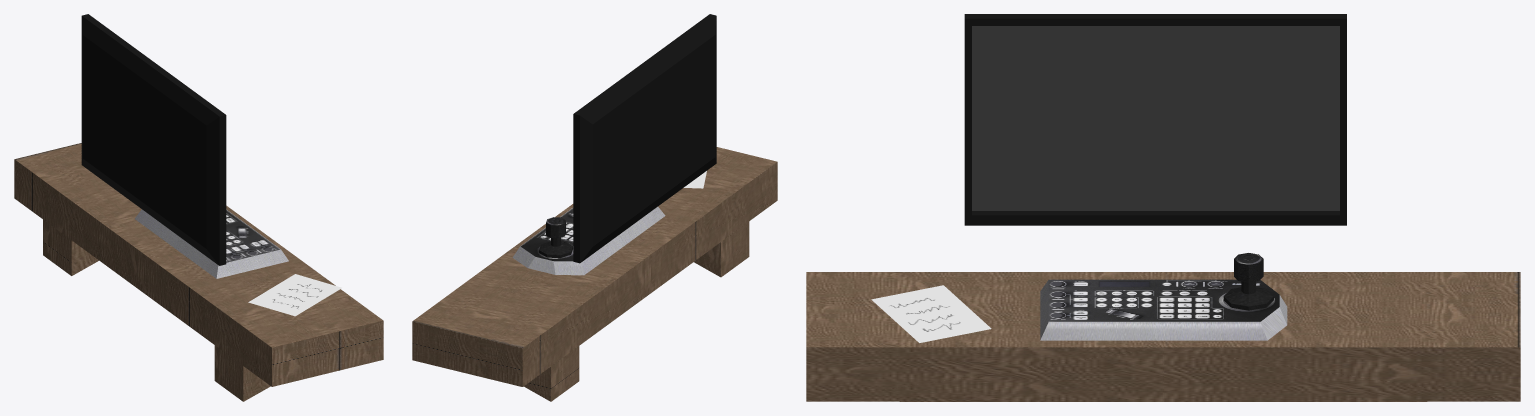
The model's file is Desk.glb.
3 renders of one model, left to right at view 1: azimuth 30°, elevation 25°; view 2: azimuth 150°, elevation 25°; view 3: azimuth 270°, elevation 25°, orthographic. The views are drawn at different scales.
Visible parts, largest first — view 1: Table, TV screen, CCTV remote, Note; view 2: Table, TV screen, CCTV remote; view 3: TV screen, Table, CCTV remote, Note.
Boxes of the visible parts, x1=… form: Table: x1=14, y1=143, x2=383, y2=401; TV screen: x1=81, y1=14, x2=226, y2=265; CCTV remote: x1=135, y1=209, x2=288, y2=278; Note: x1=248, y1=274, x2=341, y2=316; Table: x1=412, y1=147, x2=777, y2=401; TV screen: x1=573, y1=14, x2=716, y2=263; CCTV remote: x1=512, y1=206, x2=665, y2=275; TV screen: x1=964, y1=14, x2=1346, y2=225; Table: x1=806, y1=272, x2=1520, y2=401; CCTV remote: x1=1040, y1=253, x2=1287, y2=340; Note: x1=871, y1=285, x2=991, y2=342.
Size of the model in its own units: 1.01 by 2.26 by 4.
4 materials, 4 textured.
